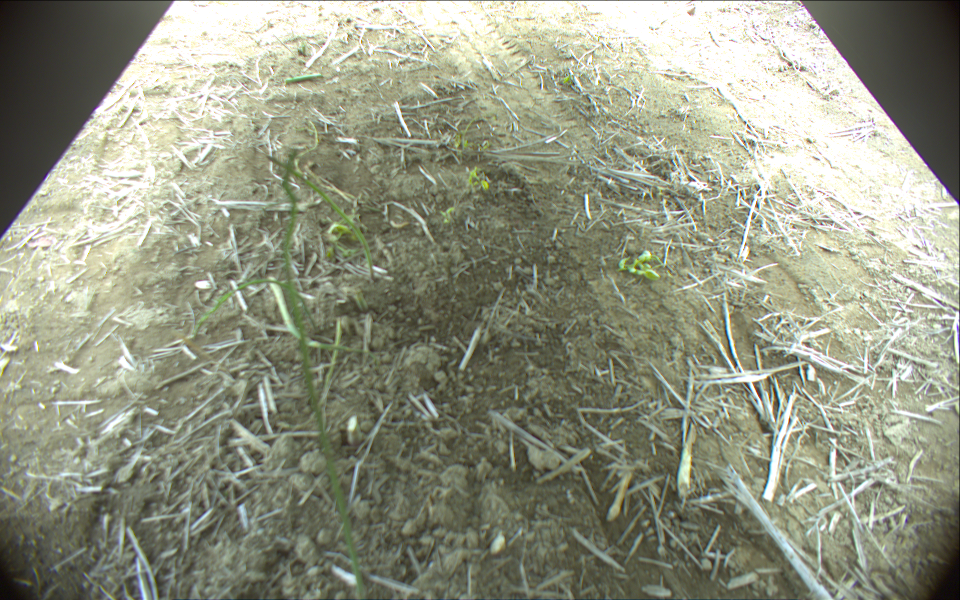aspa: (279, 150, 372, 600), (263, 154, 377, 278), (267, 276, 366, 351), (194, 277, 320, 333), (320, 317, 344, 393), (285, 70, 325, 85)
